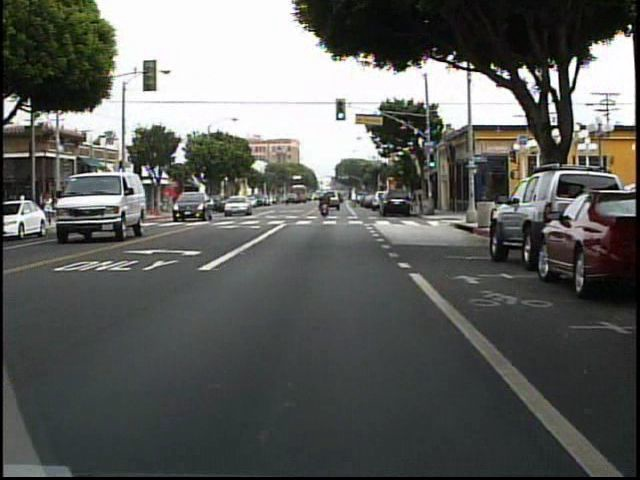person: (43, 190, 59, 231), (74, 189, 88, 221), (320, 189, 334, 219), (88, 190, 100, 221)
